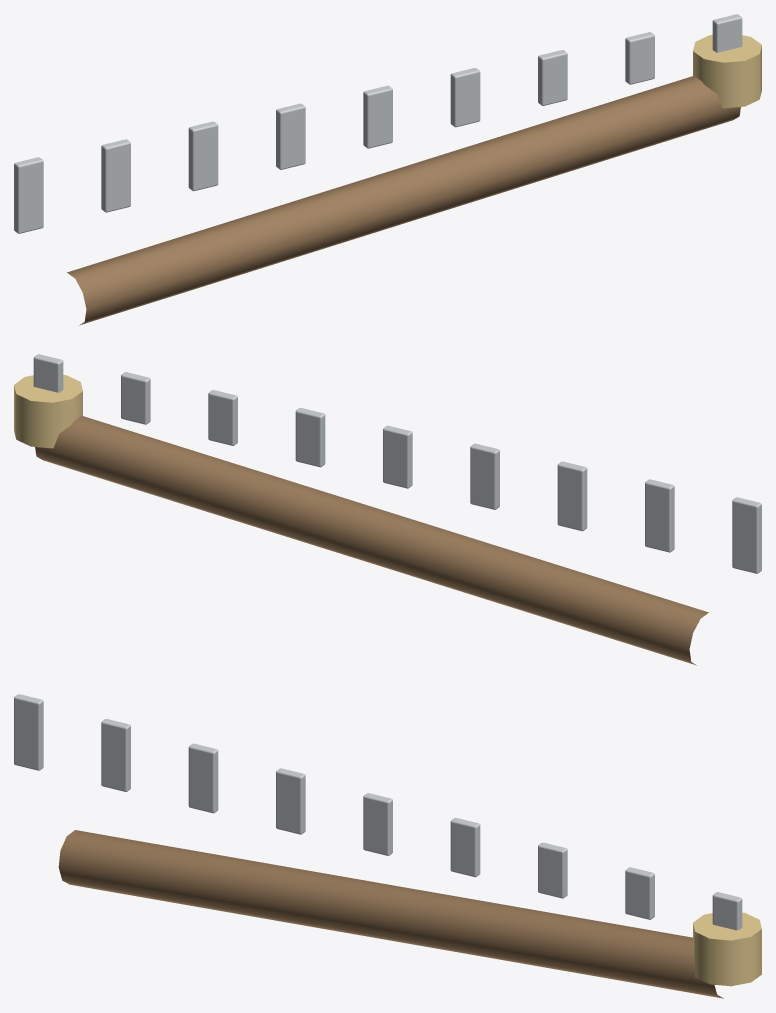
Rendered from marquetry-and-veneer-inlay-workshop-veneer-saw-with-cu-753ddfe7__39096.glb.
3 renders of one model, top to bottom at view 1: azimuth 30°, elevation 25°; view 2: azimuth 150°, elevation 25°; view 3: azimuth 330°, elevation 25°, orthographic.
Parts seen in each view (by area): view 1: veneer-saw-with-curved-toothed-edge; view 2: veneer-saw-with-curved-toothed-edge; view 3: veneer-saw-with-curved-toothed-edge.
Boxes of the visible parts, box(x1,y1,x2,y2) form: veneer-saw-with-curved-toothed-edge: box(14, 14, 761, 325); veneer-saw-with-curved-toothed-edge: box(14, 354, 761, 665); veneer-saw-with-curved-toothed-edge: box(14, 694, 761, 998).
Bounding box in the file's own units: 0.3393 × 0.0754 × 0.028.
